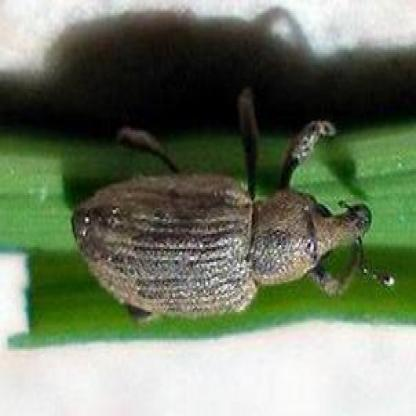rice-bug: (71, 89, 386, 326)
